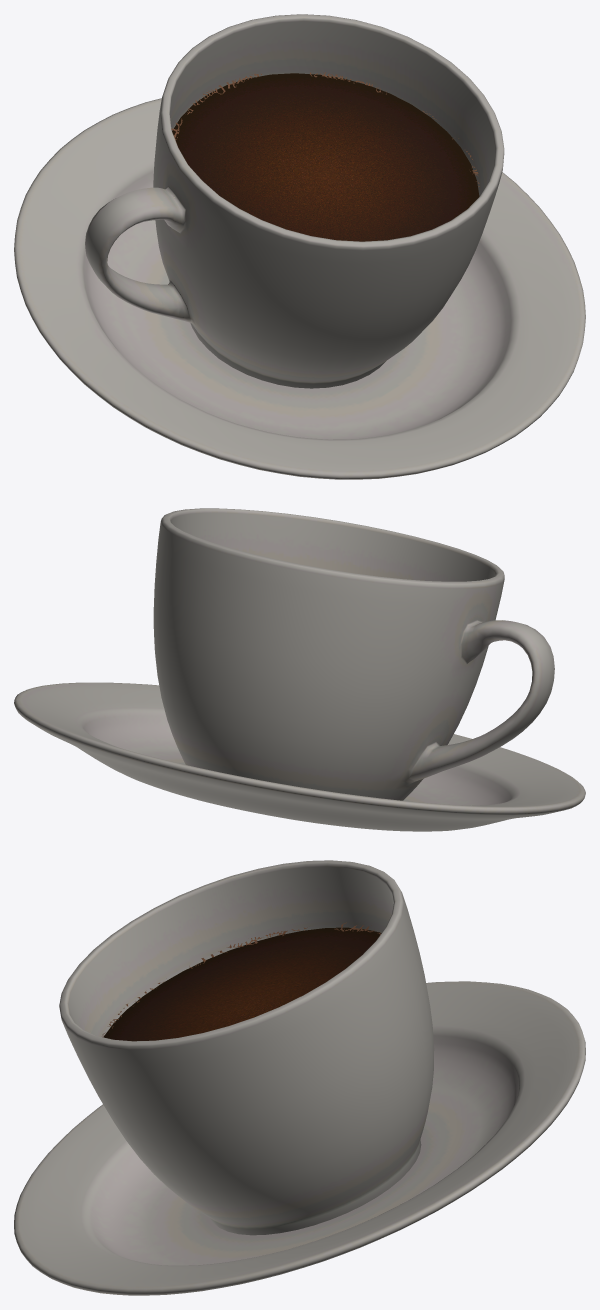
The model's file is taza1.fbx.
3 renders of one model, top to bottom at view 1: azimuth 30°, elevation 25°; view 2: azimuth 150°, elevation 25°; view 3: azimuth 270°, elevation 25°, orthographic. The views are drawn at different scales.
Visible parts, largest first — view 1: node_id34; view 2: node_id34; view 3: node_id34.
Boxes of the visible parts, box(x1,y1,x2,y2) form: node_id34: box(14, 14, 585, 479); node_id34: box(14, 508, 585, 831); node_id34: box(14, 860, 585, 1295).
Bounding box in the file's own units: 0.512 × 0.3124 × 0.4853.
Materials: 2 (2 with a texture image).
